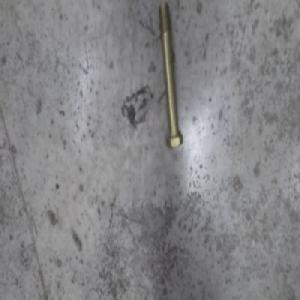Bolt: (158, 18, 184, 151)
